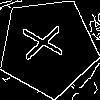X: (23, 22, 72, 61)
